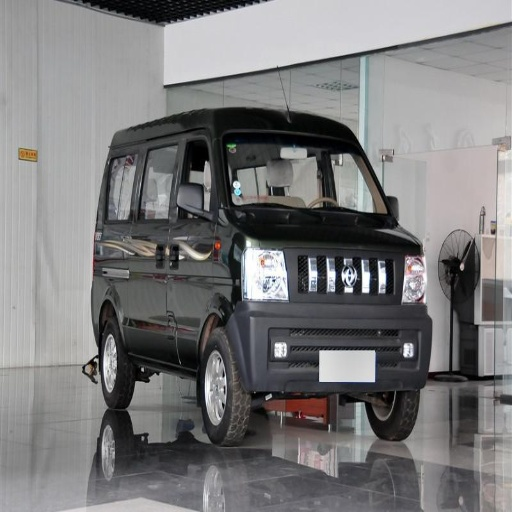front_bumper: (255, 253, 434, 396)
front_glass: (230, 134, 314, 179)
front_left_light: (400, 253, 428, 303)
front_right_door: (165, 138, 218, 312)
front_right_light: (239, 245, 284, 296)
tailgate: (300, 291, 392, 331), (294, 251, 389, 281)
trunk: (185, 274, 223, 348), (268, 305, 332, 332)
